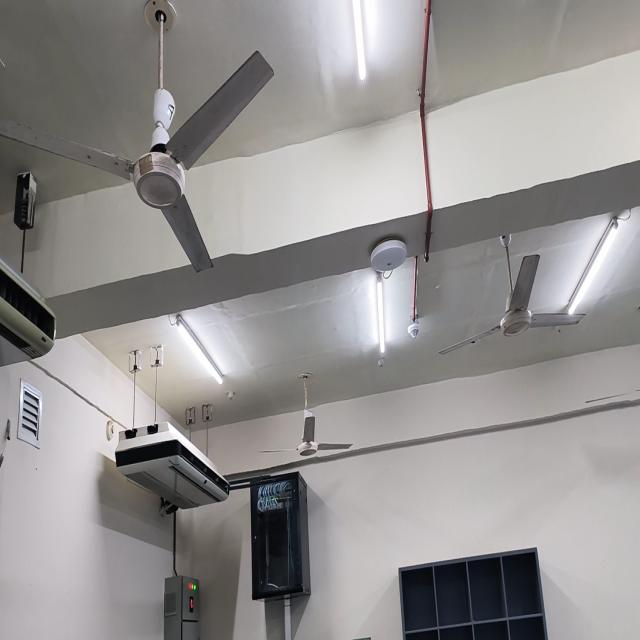Ac: (115, 423, 230, 513), (0, 260, 56, 359)
Light: (566, 211, 630, 313), (169, 313, 224, 385), (352, 0, 366, 82), (376, 273, 385, 357)
